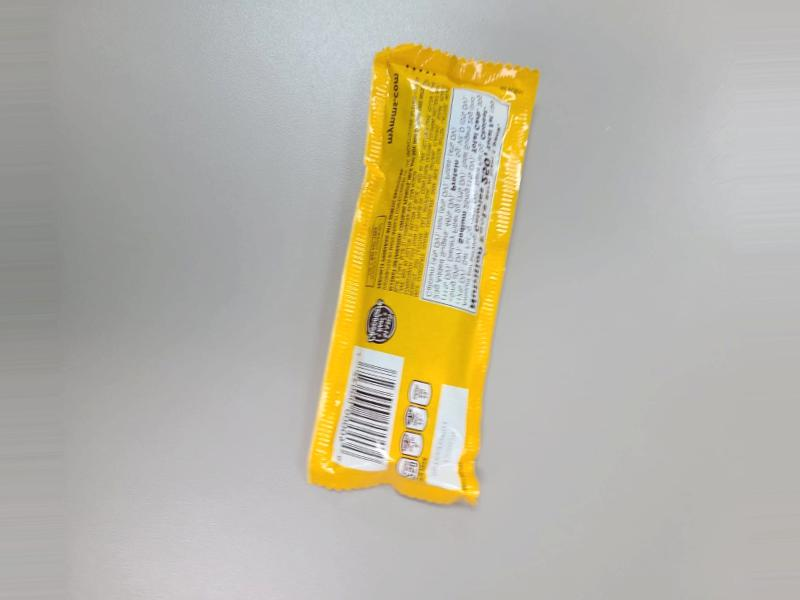m&m: (311, 45, 522, 470)
